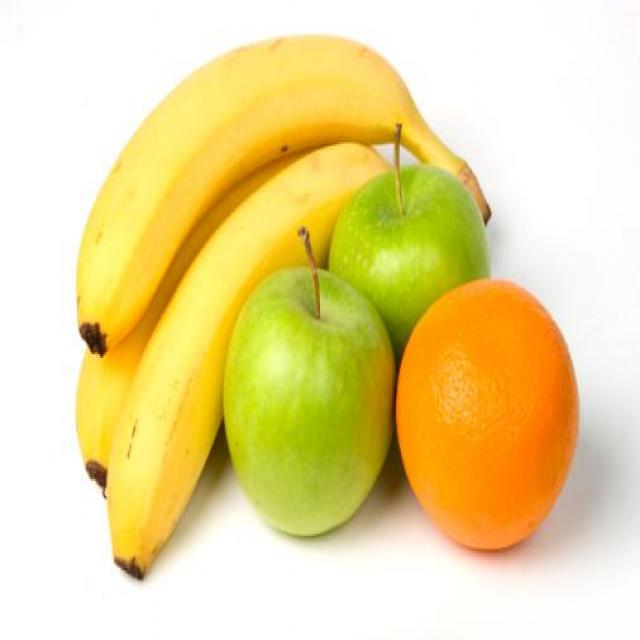Apple: (218, 249, 402, 542), (323, 144, 502, 329)
Banana: (62, 28, 491, 580)
Orange: (390, 277, 582, 559)
